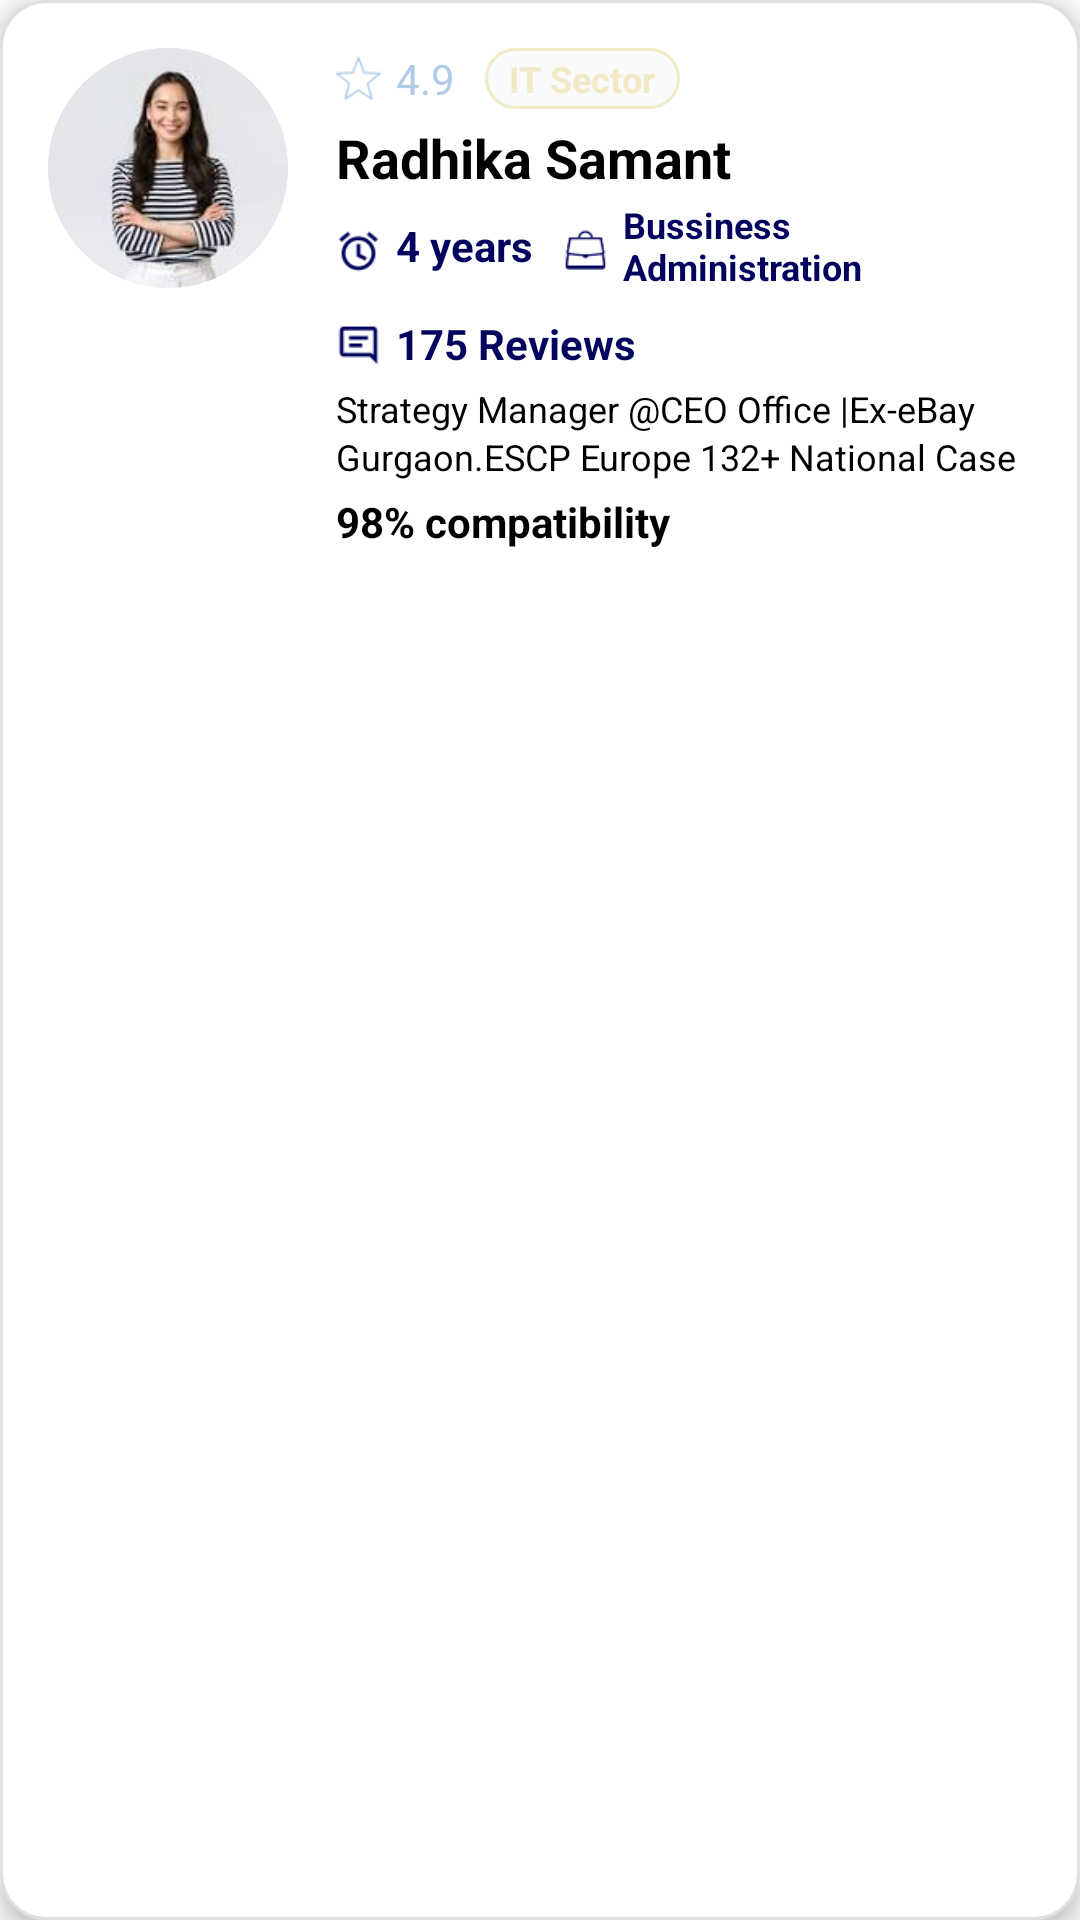

Icon bounding boxes for this 1080*1920 phone screenshot, format (x1, y1, x2, y2):
alarm: (338, 231, 379, 271)
bag: (565, 230, 606, 270)
Mentor profile image: (48, 48, 288, 288)
message: (339, 326, 378, 364)
star image: (336, 57, 381, 100)
